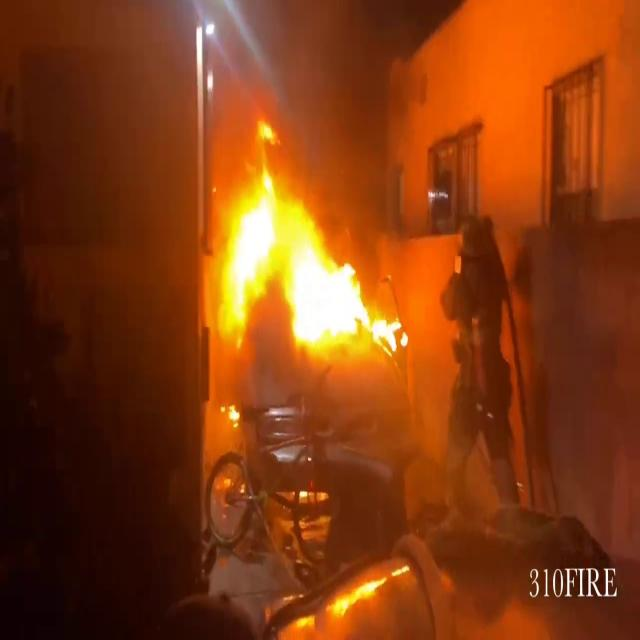Fire: (211, 136, 415, 358)
